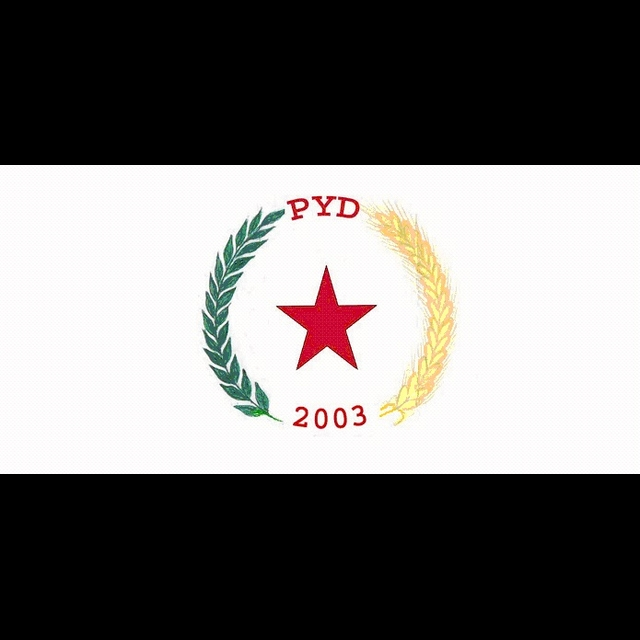PYD: (199, 185, 463, 435)
